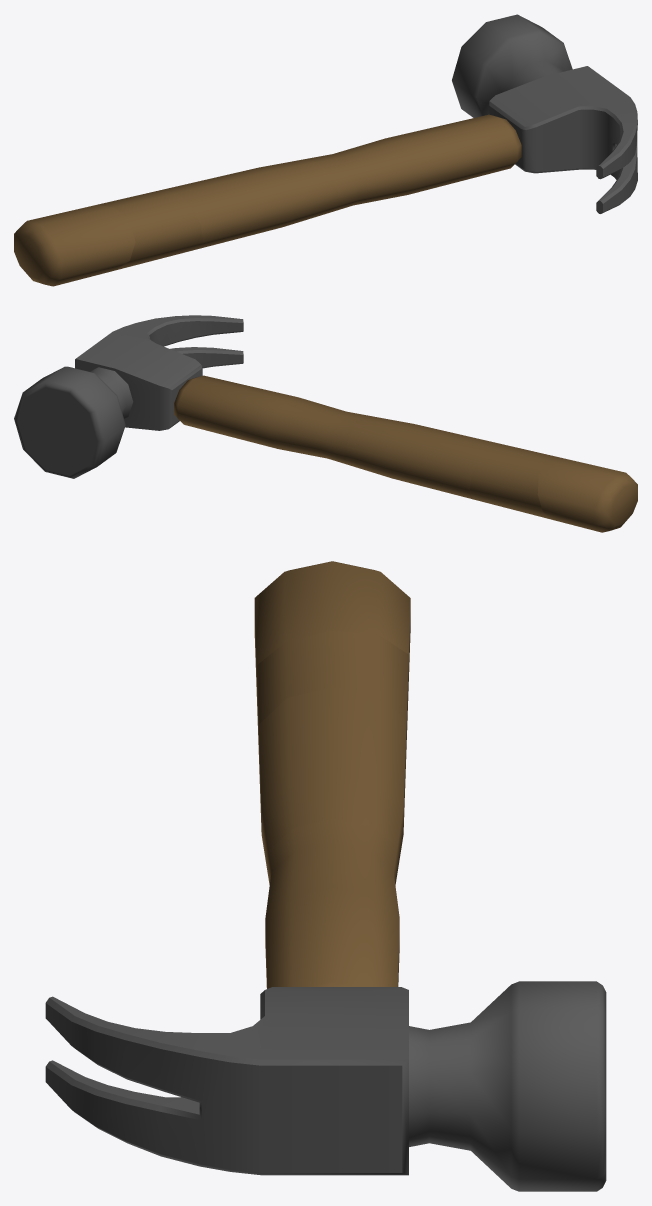
The model's file is Entity_Hammer-bkn.FBX.
The picture shows the model from 3 angles, top to bottom: view 1: azimuth 30°, elevation 25°; view 2: azimuth 150°, elevation 25°; view 3: azimuth 270°, elevation 25°; orthographic projection. The views are drawn at different scales.
Parts seen in each view (by area): view 1: HammerHead, HammerHandle_Part_1, HammerHandle_Part_3, HammerHandle_Part_4, HammerHandle_Part_2; view 2: HammerHead, HammerHandle_Part_1, HammerHandle_Part_3, HammerHandle_Part_4, HammerHandle_Part_2; view 3: HammerHead, HammerHandle_Part_1, HammerHandle_Part_3, HammerHandle_Part_4, HammerHandle_Part_2.
Boxes of the visible parts, <box> form: HammerHead: <box>452,14,637,213</box>; HammerHandle_Part_1: <box>306,114,521,212</box>; HammerHandle_Part_3: <box>164,159,338,249</box>; HammerHandle_Part_4: <box>14,205,135,286</box>; HammerHandle_Part_2: <box>97,189,202,270</box>; HammerHead: <box>14,315,243,478</box>; HammerHandle_Part_1: <box>174,375,367,465</box>; HammerHandle_Part_3: <box>346,415,497,499</box>; HammerHandle_Part_4: <box>537,456,637,532</box>; HammerHandle_Part_2: <box>469,443,554,519</box>; HammerHead: <box>45,981,606,1191</box>; HammerHandle_Part_1: <box>265,818,399,988</box>; HammerHandle_Part_3: <box>259,687,406,875</box>; HammerHandle_Part_4: <box>254,561,410,686</box>; HammerHandle_Part_2: <box>256,630,408,754</box>.
Bounding box in the file's own units: 137 × 22.04 × 61.31.
